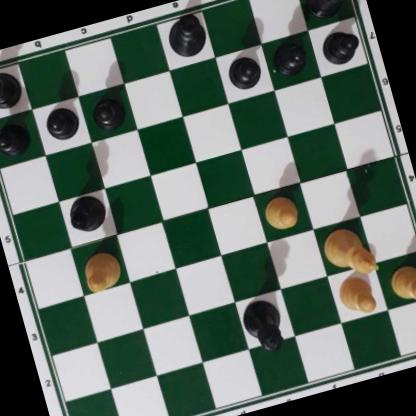black-bishop: (63, 190, 112, 238)
black-king: (161, 10, 212, 62)
black-pawn: (317, 24, 362, 68), (222, 49, 264, 91), (41, 102, 81, 144), (88, 91, 128, 132), (270, 36, 309, 76), (0, 117, 32, 158)
black-queen: (239, 295, 288, 358)
black-rook: (0, 62, 25, 115), (301, 0, 357, 21)
white-bishop: (77, 249, 126, 296)
white-king: (318, 220, 381, 285)
white-pawn: (333, 271, 382, 321), (258, 189, 304, 235), (386, 260, 416, 306)
